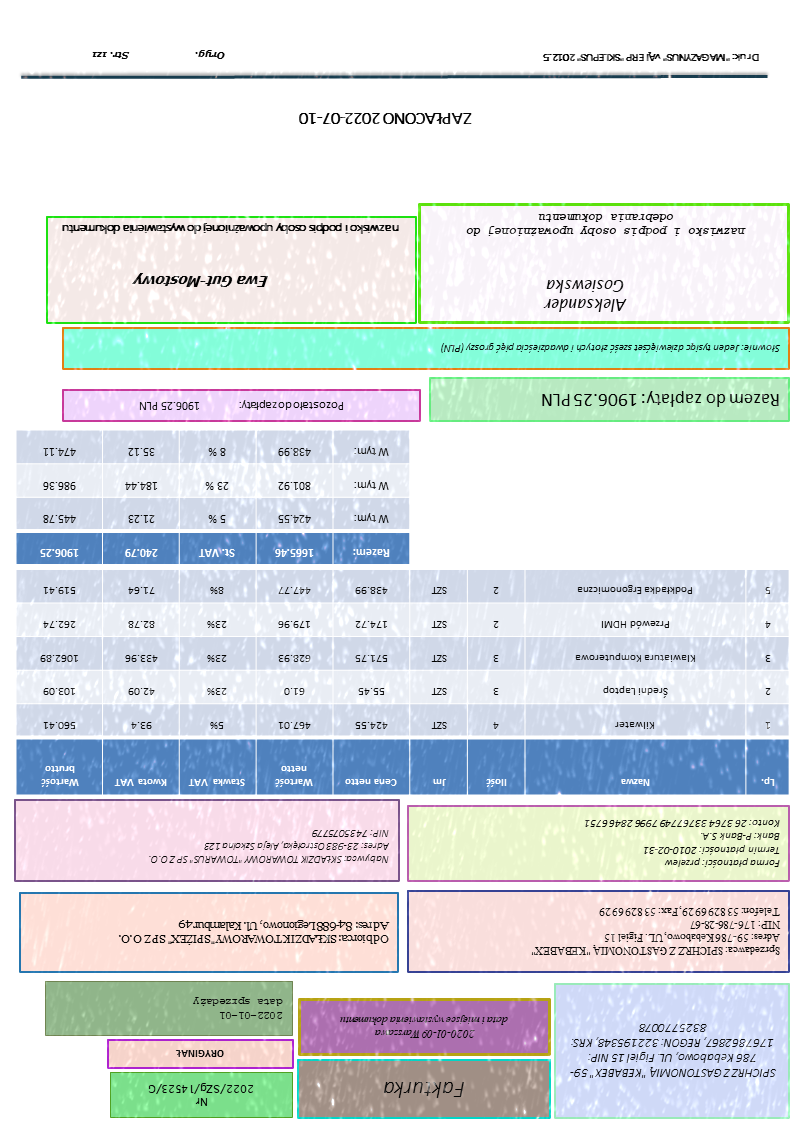Table: (15, 568, 791, 796), (16, 430, 411, 565)
TextBox: (528, 904, 783, 960), (568, 1019, 782, 1082), (582, 817, 784, 871), (147, 827, 393, 867), (118, 918, 394, 948), (466, 211, 748, 240), (61, 220, 403, 237), (540, 389, 782, 411), (338, 1013, 510, 1041), (439, 342, 782, 356), (297, 108, 476, 129), (539, 276, 629, 315), (541, 50, 764, 65), (130, 269, 271, 292), (146, 1081, 257, 1110), (139, 399, 346, 414), (191, 994, 285, 1023), (89, 48, 229, 63), (382, 1077, 468, 1100), (174, 1048, 228, 1061)
